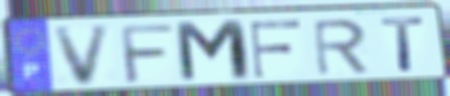F: (117, 23, 177, 86), (247, 18, 304, 81)
M: (171, 17, 256, 86)
R: (310, 17, 372, 78)
T: (378, 15, 428, 73)
V: (50, 23, 115, 90)
